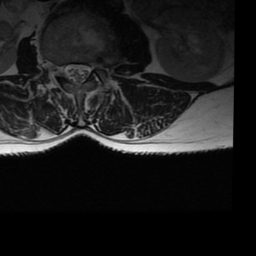CCS_normal: (72, 52, 82, 92)
LFS_stenosis: (92, 49, 101, 80)
LLS_normal: (82, 52, 92, 90)
RFS_normal: (53, 52, 62, 86)
RLS_normal: (62, 52, 72, 87)
